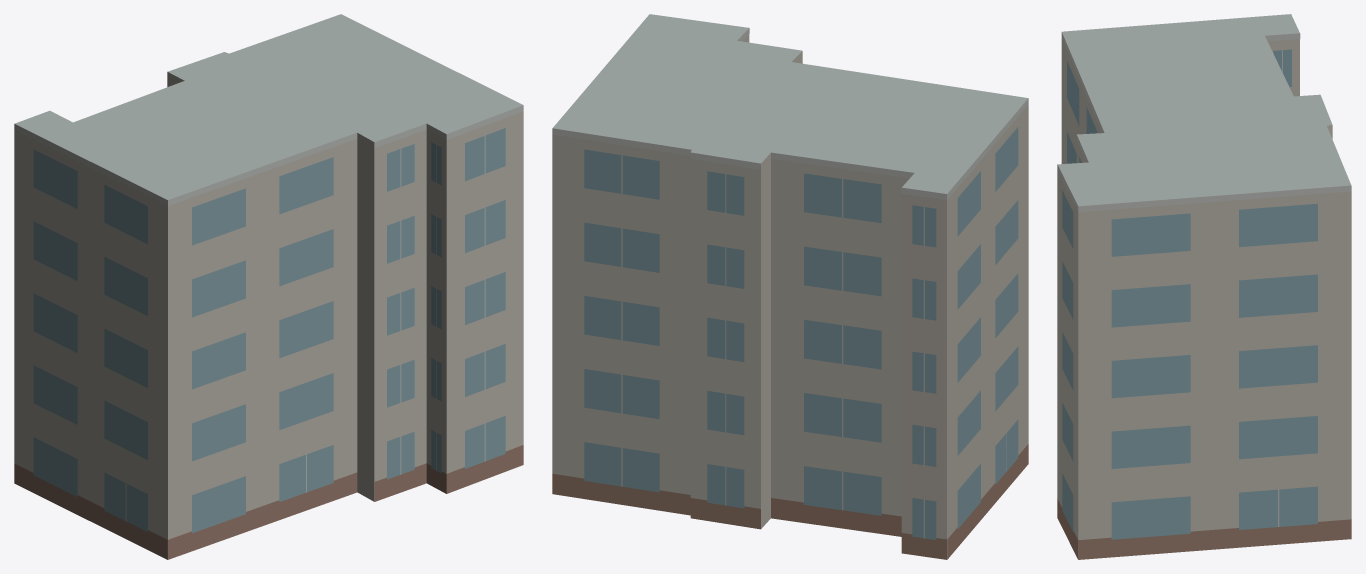
Rendered from survey-upis-32696585.glb.
3 renders of one model, left to right at view 1: azimuth 30°, elevation 25°; view 2: azimuth 150°, elevation 25°; view 3: azimuth 270°, elevation 25°, orthographic. The views are drawn at different scales.
Parts seen in each view (by area): view 1: survey-upis-32696585.tmp; view 2: survey-upis-32696585.tmp; view 3: survey-upis-32696585.tmp.
Boxes of the visible parts, x1,y1,x2,y2 form: survey-upis-32696585.tmp: [14, 14, 523, 559]; survey-upis-32696585.tmp: [552, 14, 1028, 559]; survey-upis-32696585.tmp: [1057, 14, 1351, 559].
Size of the model in its own units: 16.98 by 14.55 by 10.98.
